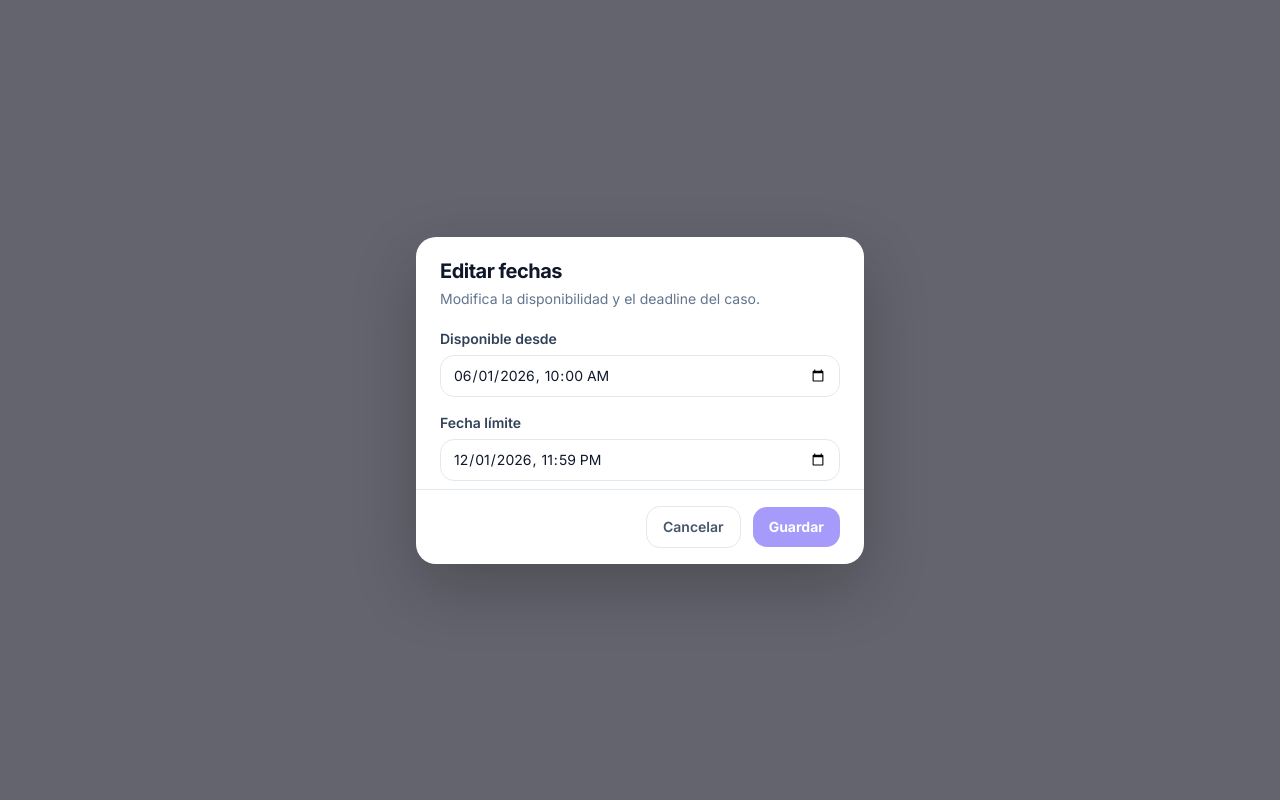
Test: DeadlineEditModal › enables submit when deadline is after available_from and values have changed
Replace the text in the field labelled "Fecha límite" with "2027-01-15T12:00" at (640, 460), box [440,438,840,480]
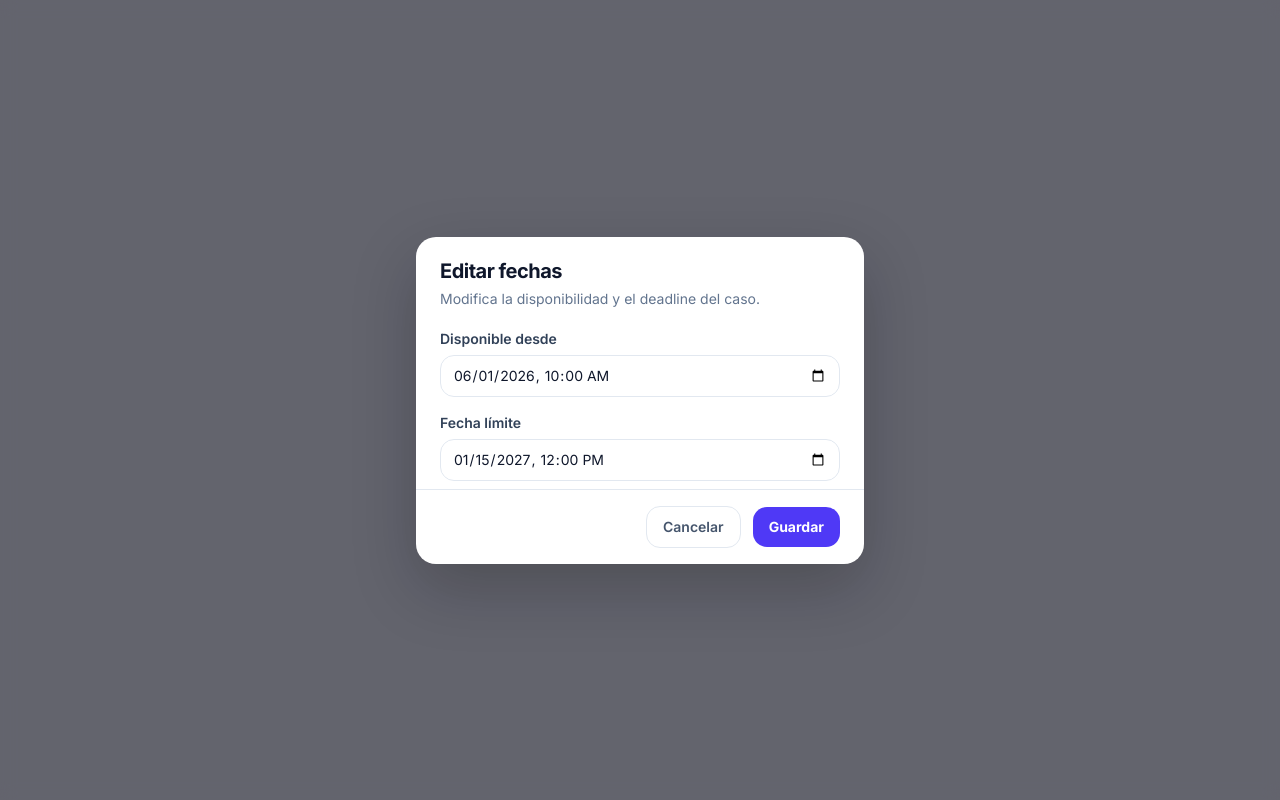
Expected: the button "Guardar" is enabled, [753,506,840,546]
